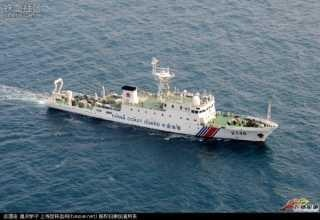warship: (47, 55, 278, 142)
